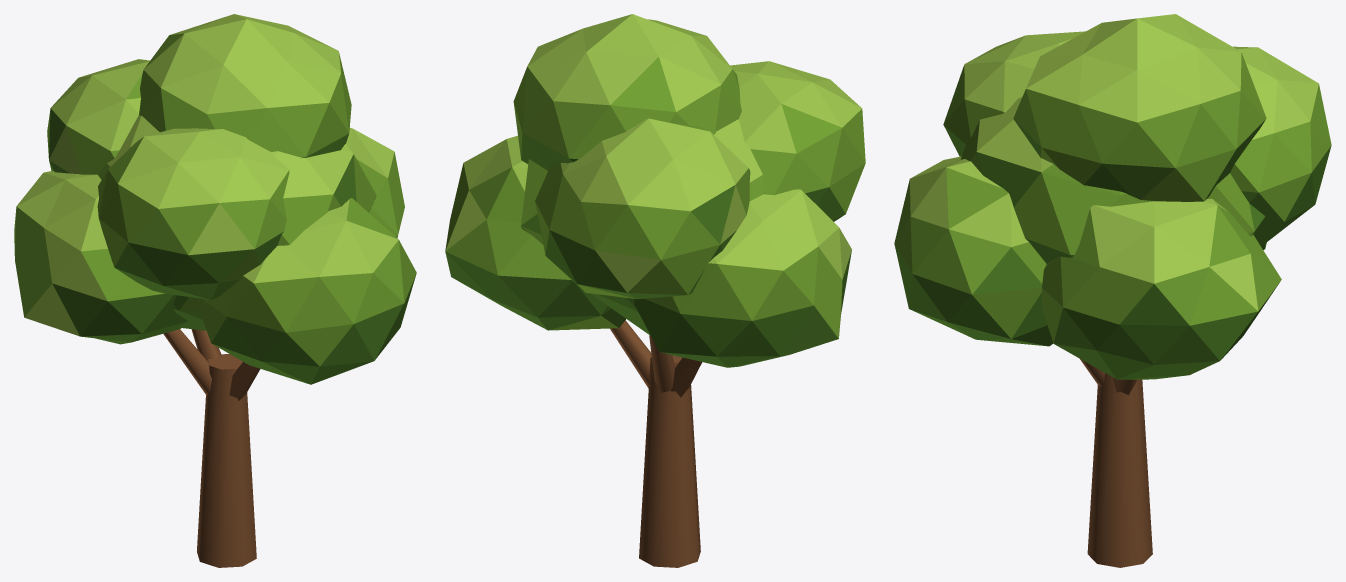
Rendered from tree_leafy_m.glb.
The picture shows the model from 3 angles, left to right: view 1: azimuth 30°, elevation 25°; view 2: azimuth 150°, elevation 25°; view 3: azimuth 270°, elevation 25°; orthographic projection. The views are drawn at different scales.
Visible parts, largest first — view 1: tree.leafy.m; view 2: tree.leafy.m; view 3: tree.leafy.m.
Boxes of the visible parts, x1,y1,x2,y2 form: tree.leafy.m: [14, 14, 416, 567]; tree.leafy.m: [445, 14, 865, 567]; tree.leafy.m: [894, 14, 1331, 567].
Bounding box in the file's own units: 6.55 × 8.92 × 6.43.
